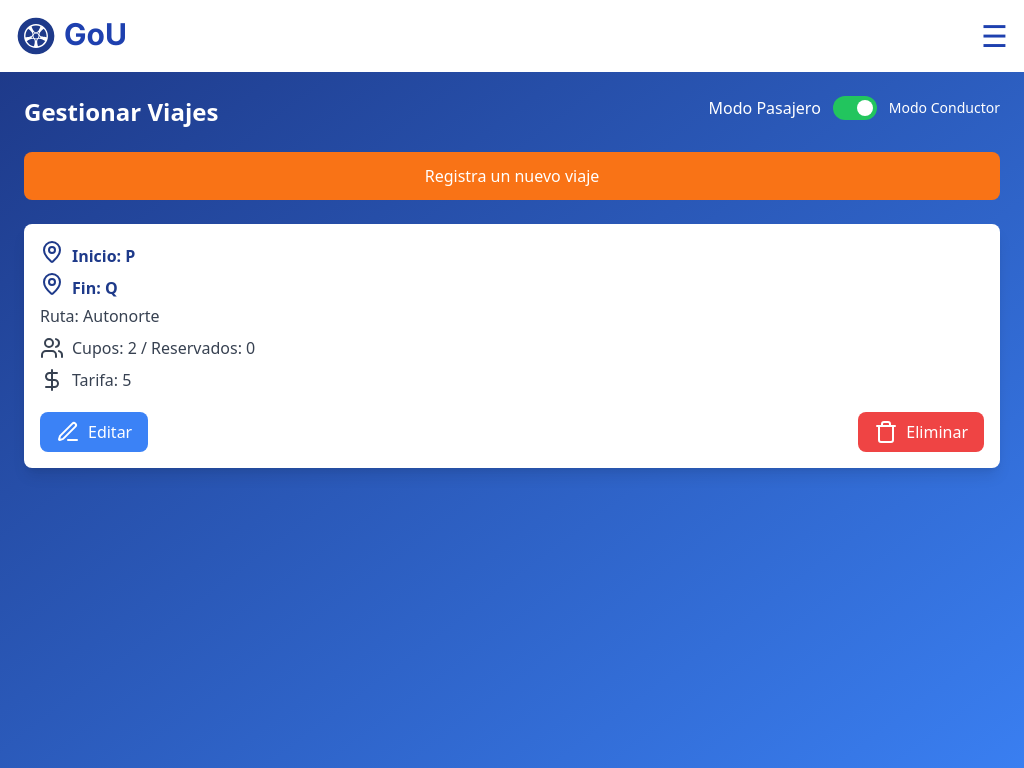
Test: 🗺️ ManageTrips E2E › Volver cierra el modal de edición
Click the button "Editar" at {"x": 94, "y": 432}, box top-left (40, 412), bottom-right (148, 452)
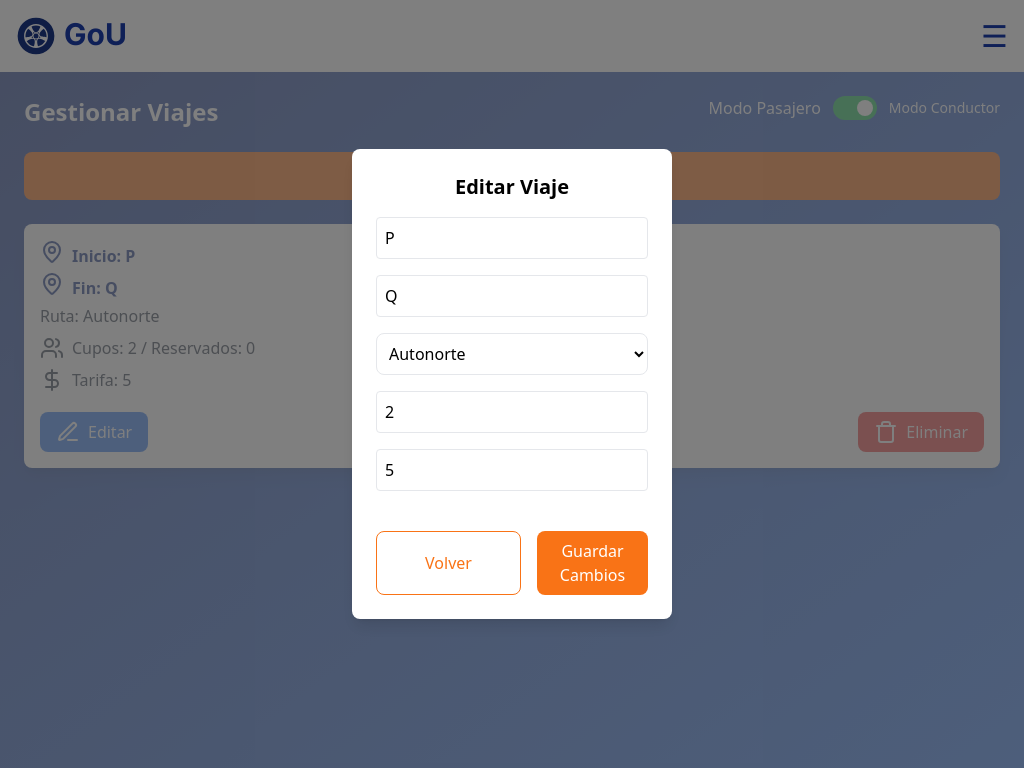
Check: the heading "Editar Viaje" is shown, box top-left (455, 173), bottom-right (569, 200)
Click the button "Volver" at {"x": 449, "y": 563}, box top-left (376, 531), bottom-right (521, 595)
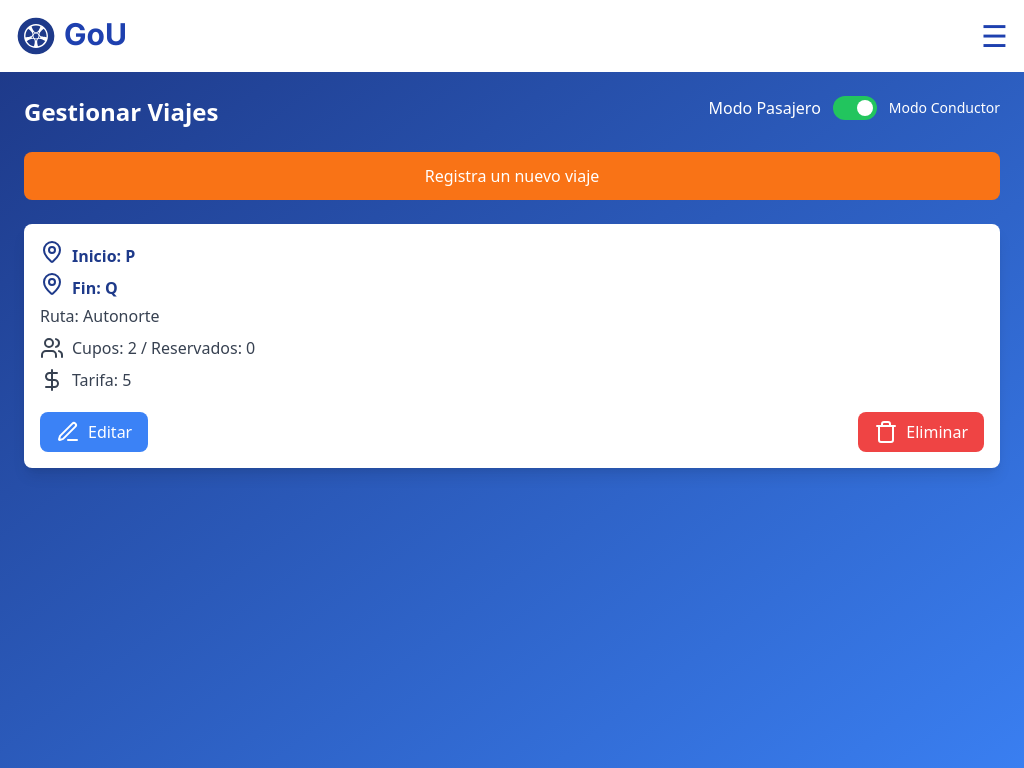
Check: the heading "Editar Viaje" is gone
